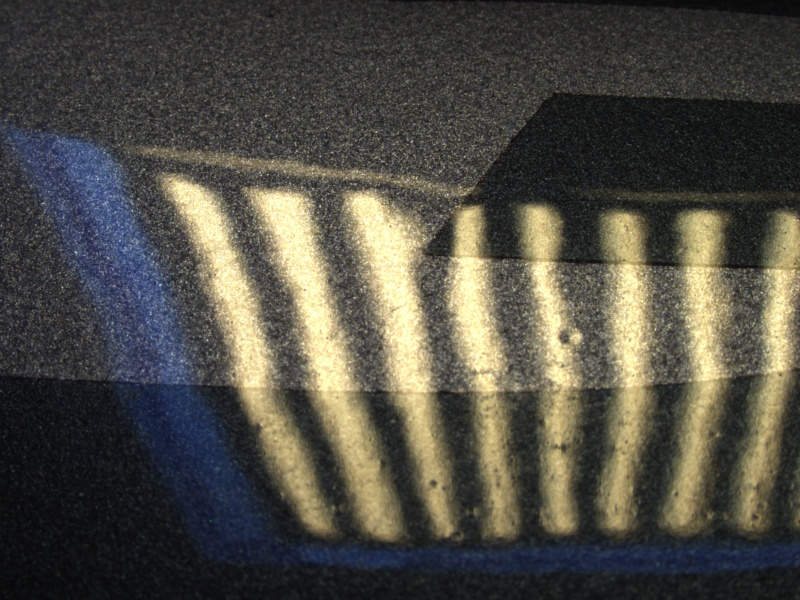bad: (553, 315, 590, 355)
